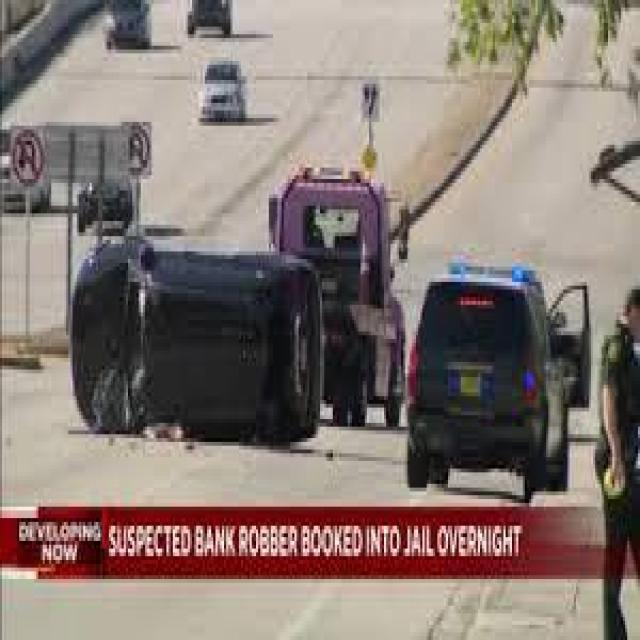severe: (65, 219, 325, 455)
